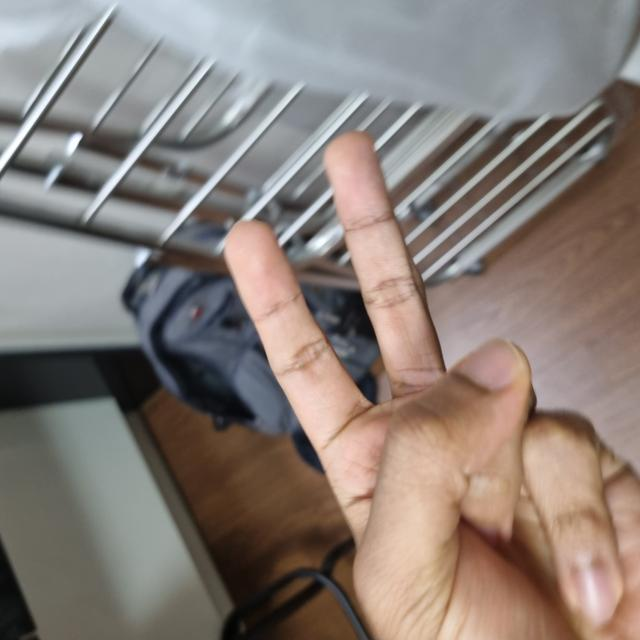Scissors: (0, 231, 576, 639)
